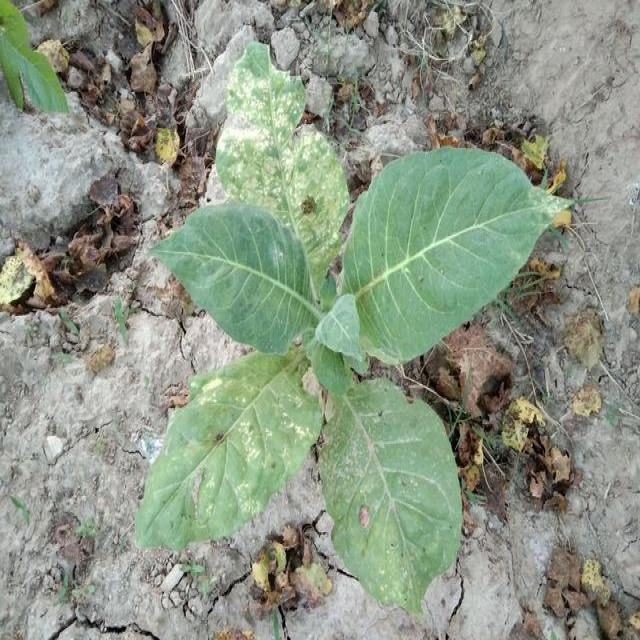crop: (143, 47, 562, 616)
